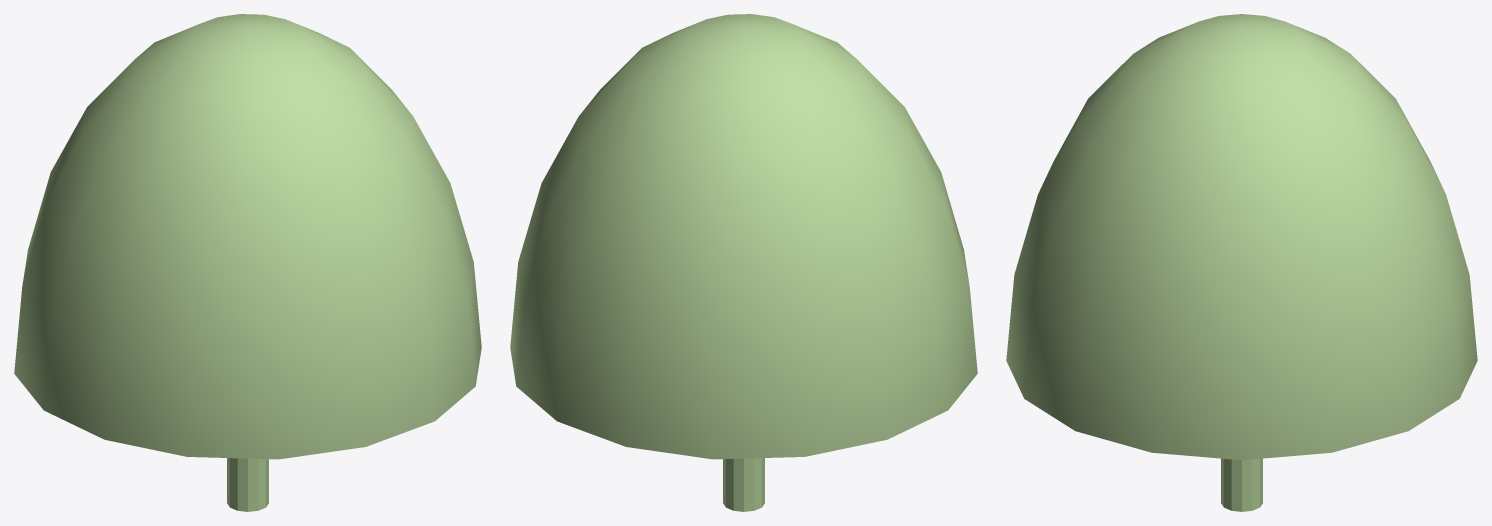
The model's file is apple-tree.glb.
3 views of the same model, side by side, from view 1: azimuth 30°, elevation 25°; view 2: azimuth 150°, elevation 25°; view 3: azimuth 270°, elevation 25° (orthographic).
Visible parts, largest first — view 1: apple-tree; view 2: apple-tree; view 3: apple-tree.
Part boxes in pixels (x1=…): apple-tree: x1=14, y1=14, x2=481, y2=511; apple-tree: x1=510, y1=14, x2=977, y2=511; apple-tree: x1=1006, y1=14, x2=1477, y2=511.
Bounding box in the file's own units: 0.9 × 1 × 0.9.
